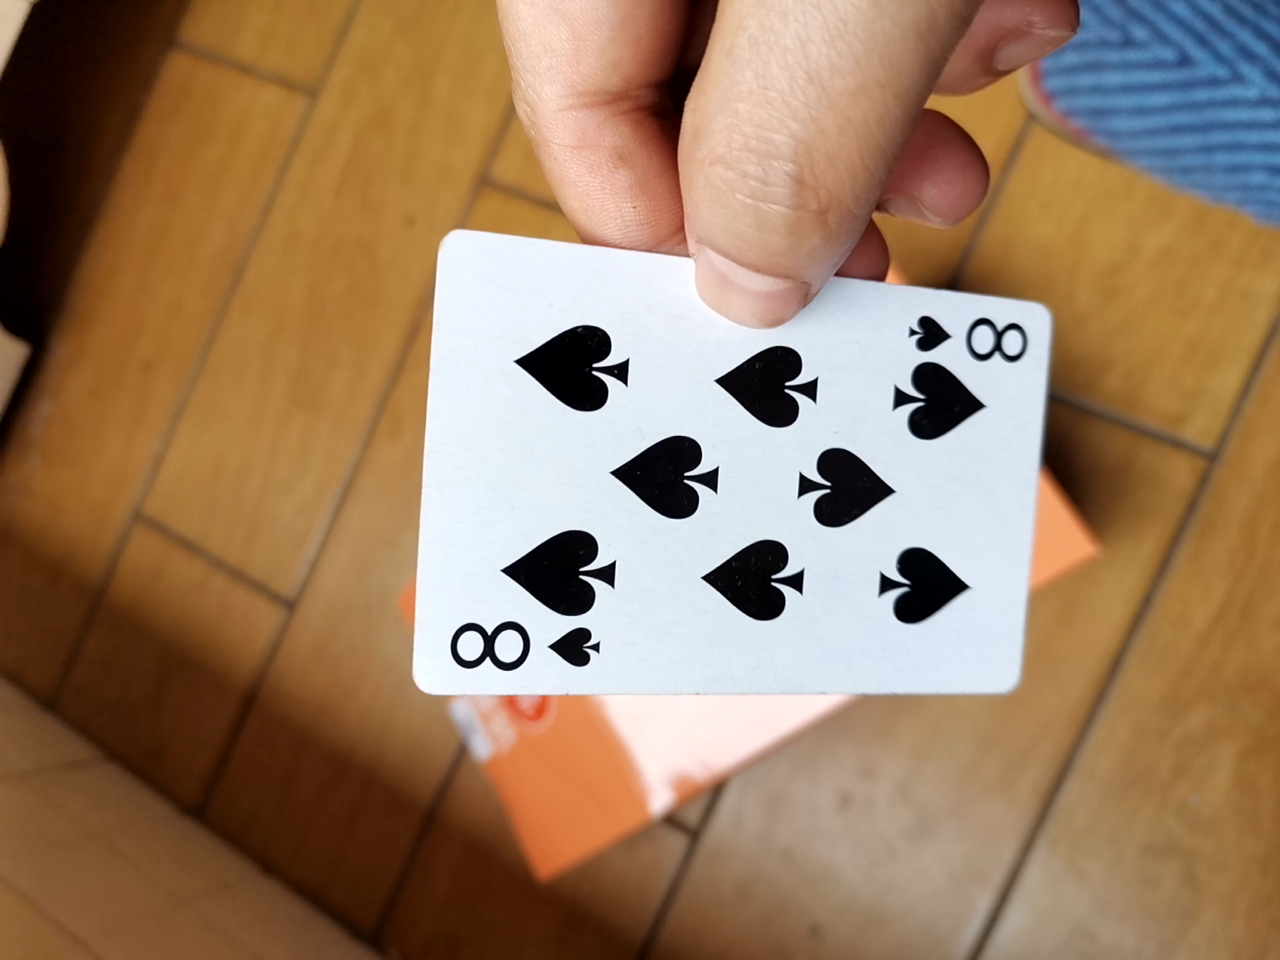ht 8: (388, 229, 1074, 743)
